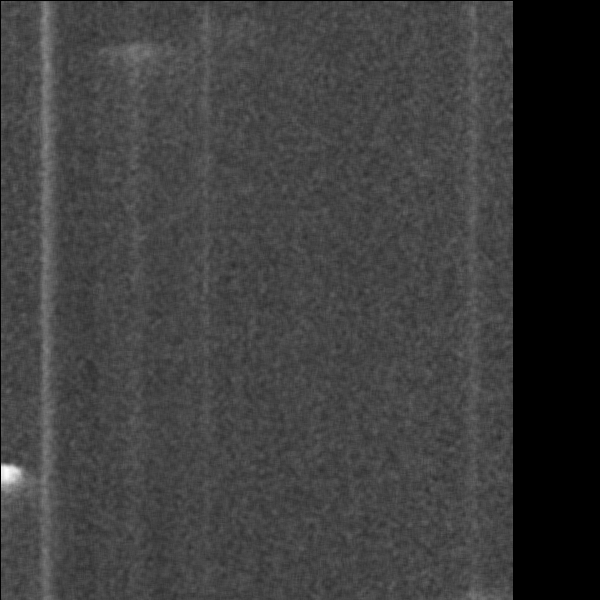spark: (55, 101, 115, 164), (349, 549, 406, 590)
